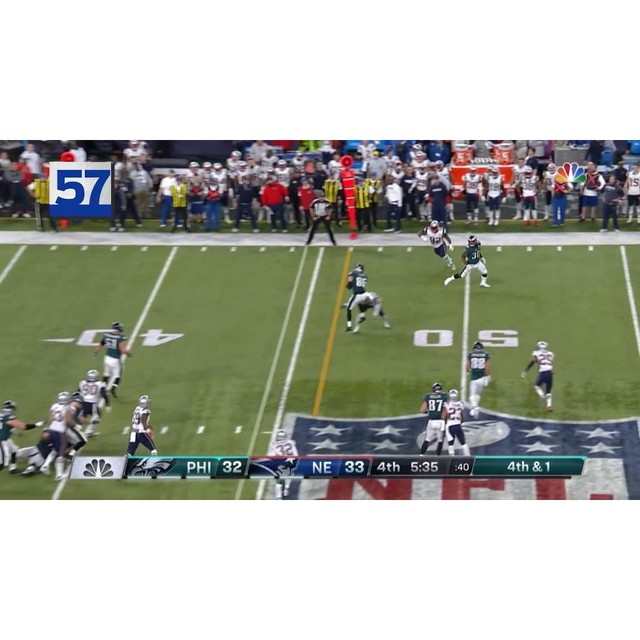american-football-player: (91, 321, 132, 398), (0, 401, 38, 478), (443, 233, 490, 289), (73, 369, 109, 439), (521, 341, 556, 411), (418, 383, 449, 456), (124, 395, 159, 457), (441, 389, 472, 457), (267, 428, 300, 491), (464, 342, 492, 415), (418, 219, 456, 269), (346, 293, 390, 333), (343, 262, 368, 331)
referee: (304, 190, 338, 247)
